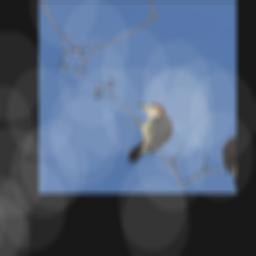Woodpecker: (111, 93, 184, 175)
